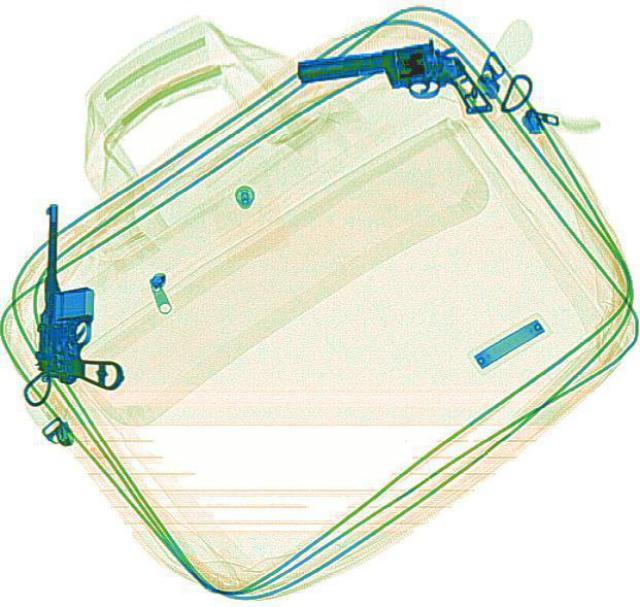Gun: (31, 200, 130, 395), (292, 37, 492, 126)
